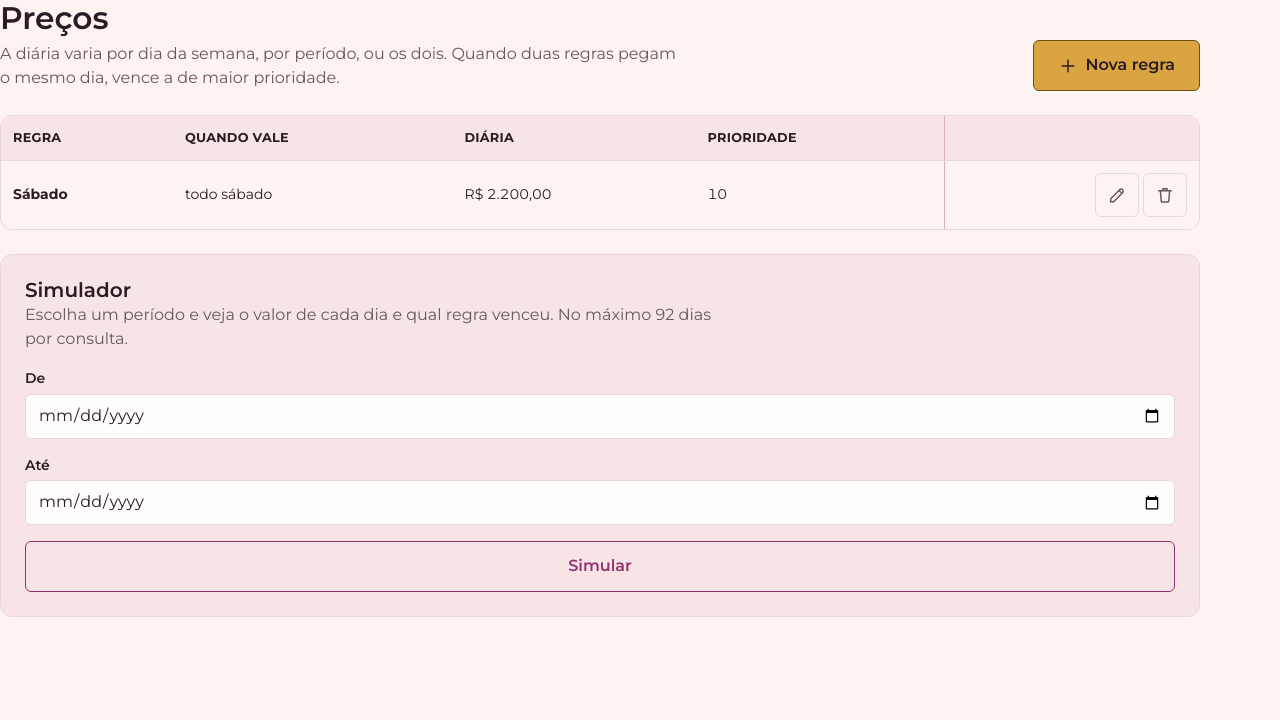
it: PricesPage › explica que as reservas feitas não mudam ao excluir a regra
This screenshot has width=1280, height=720.
Click the button named "Excluir Sábado" at (1165, 195), box [1143,173,1187,217]
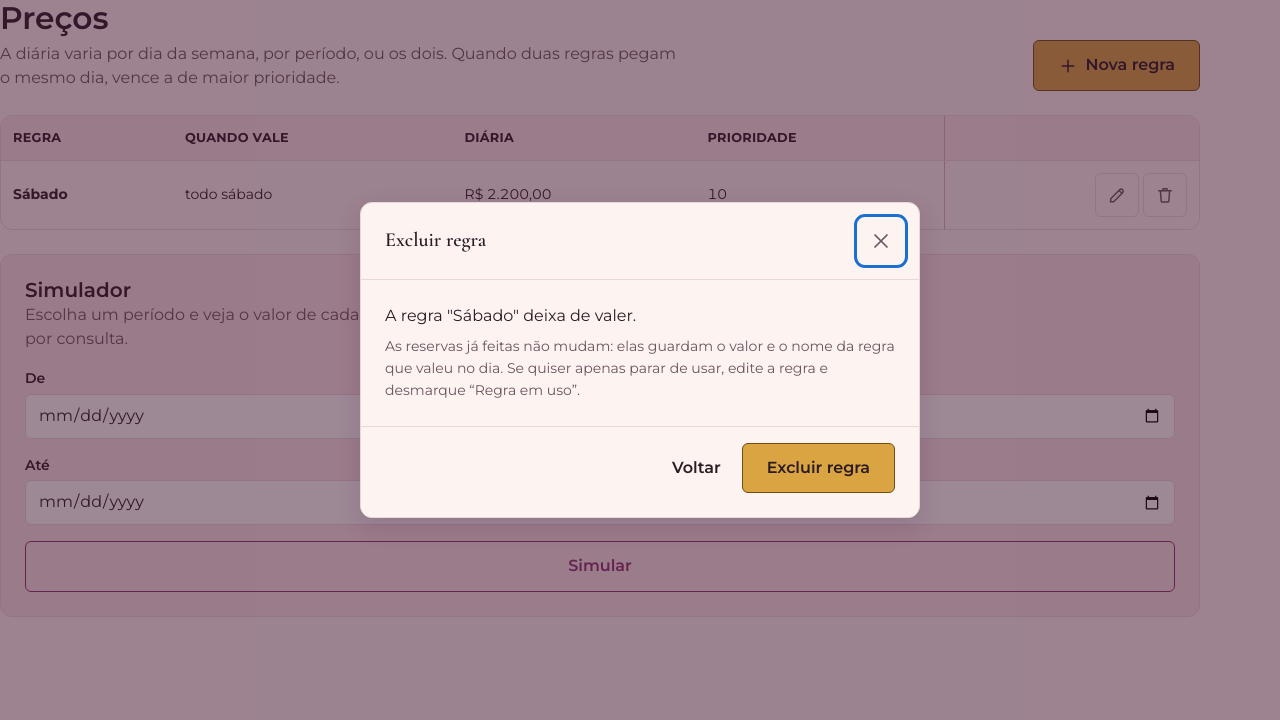
Expected: the text "As reservas já feitas não mudam" is shown, [385,338,895,399]
